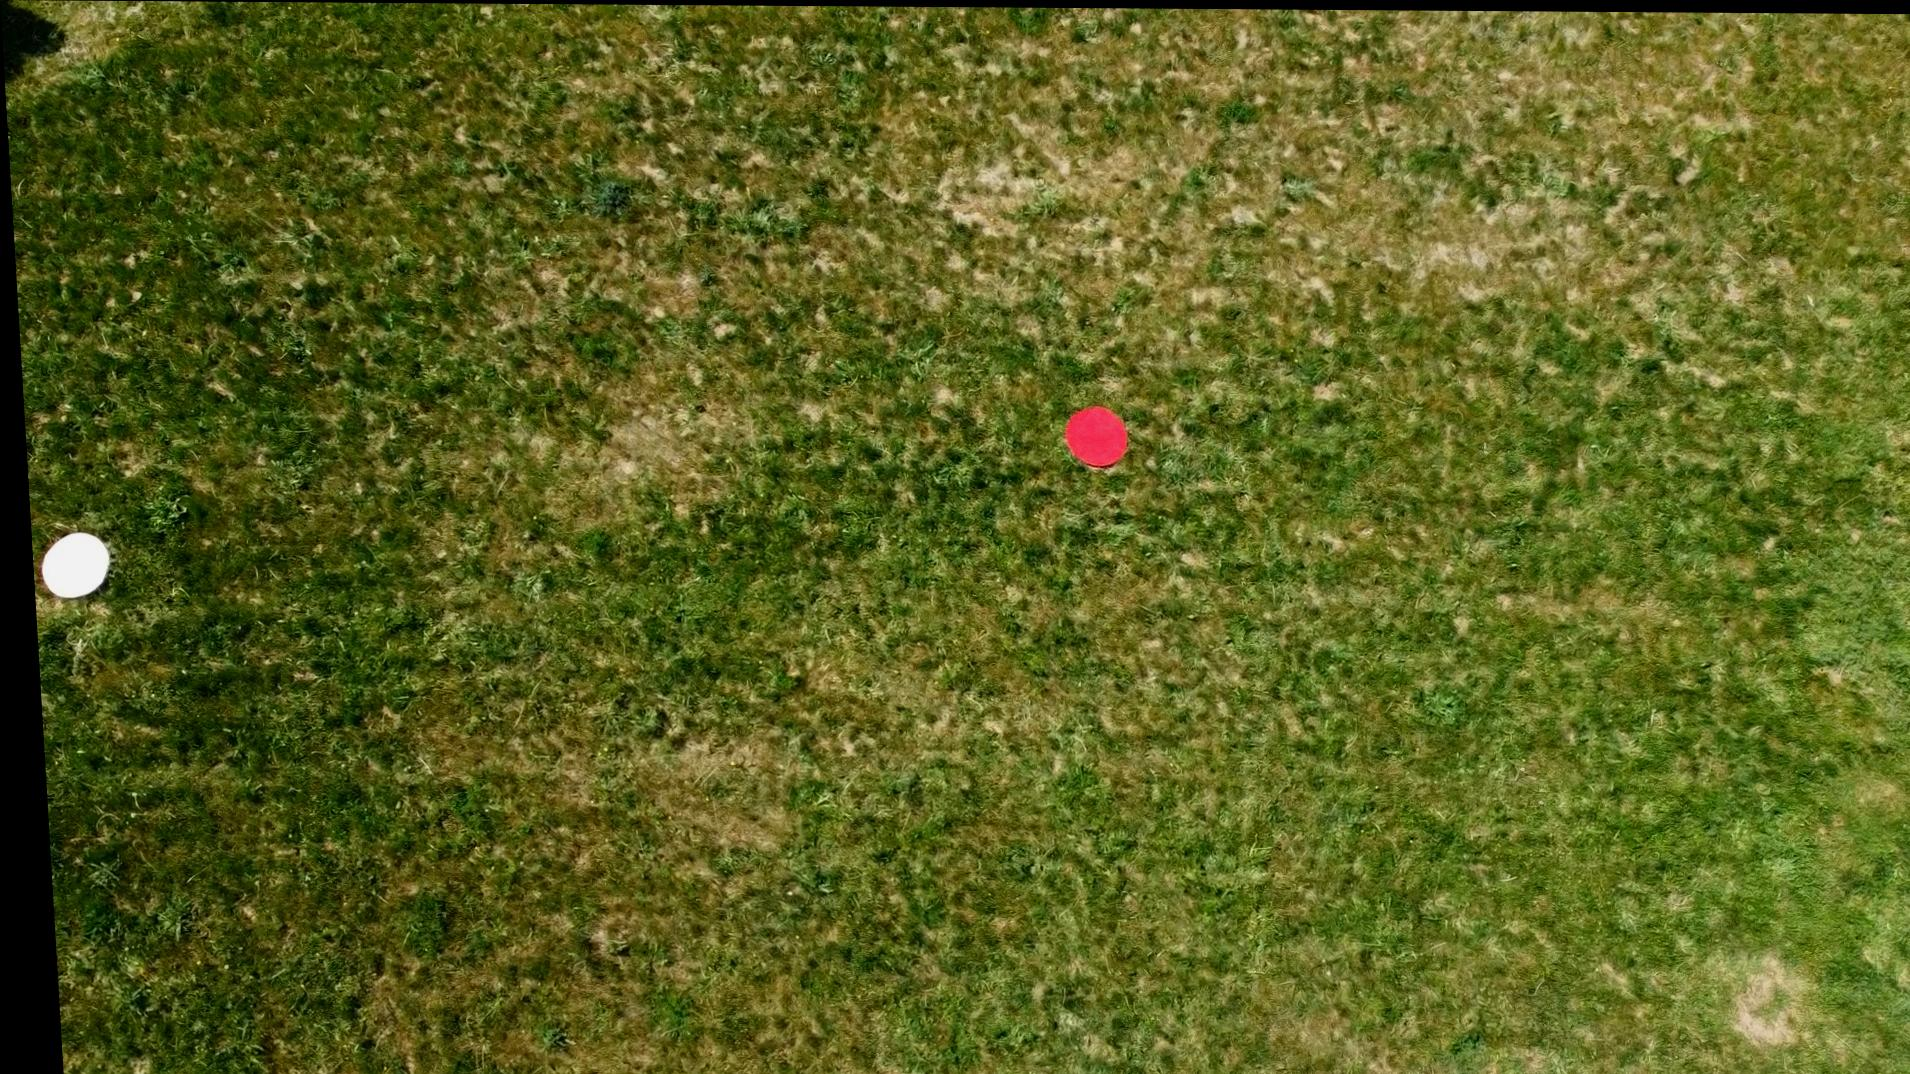Red: (1055, 404, 1127, 468)
Unknown: (26, 530, 109, 601)
